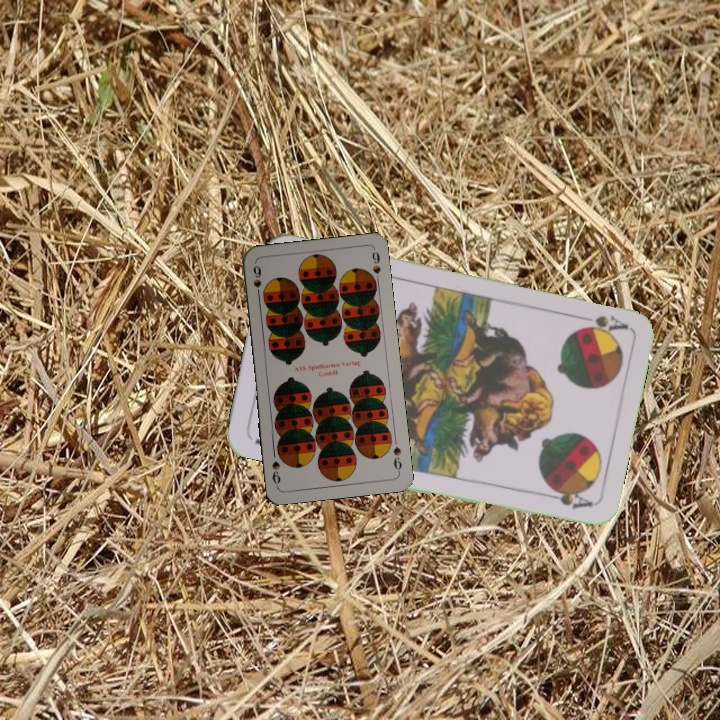S9: (249, 261, 264, 301), (389, 443, 404, 475)
SA: (571, 311, 630, 336)
